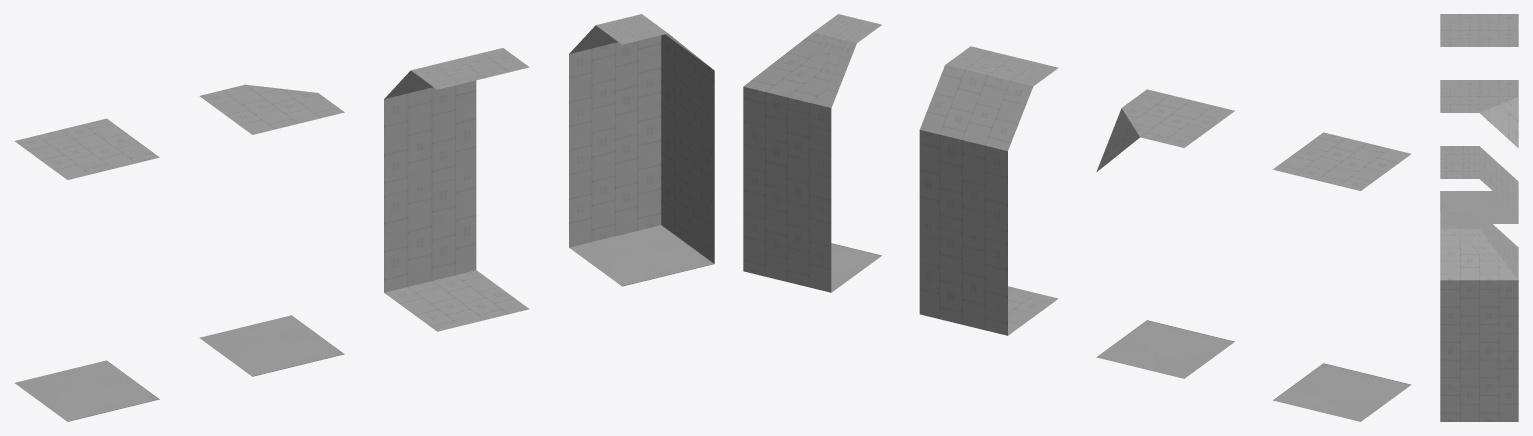
Rendered from tileset.glb.
3 renders of one model, left to right at view 1: azimuth 30°, elevation 25°; view 2: azimuth 150°, elevation 25°; view 3: azimuth 270°, elevation 25°, orthographic. The views are drawn at different scales.
Visible parts, largest first — view 1: corner_in_col, wall_col, floor_col, corner_out_col; view 2: wall_col, corner_in_col, corner_out_col, floor_col; view 3: corner_in_col, floor_col, corner_out_col, wall_col.
Boxes of the visible parts, x1,y1,x2,y2 form: corner_in_col: (569, 14, 714, 286); wall_col: (384, 48, 529, 331); floor_col: (14, 118, 159, 421); corner_out_col: (199, 84, 344, 376); wall_col: (919, 46, 1058, 335); corner_in_col: (743, 14, 881, 292); corner_out_col: (1096, 89, 1234, 378); floor_col: (1273, 132, 1411, 421); corner_in_col: (1440, 212, 1518, 421); floor_col: (1440, 14, 1518, 223); corner_out_col: (1440, 80, 1518, 147); wall_col: (1440, 146, 1518, 213).
Size of the model in its own units: 7 by 2.5 by 1.
1 material, 1 textured.
